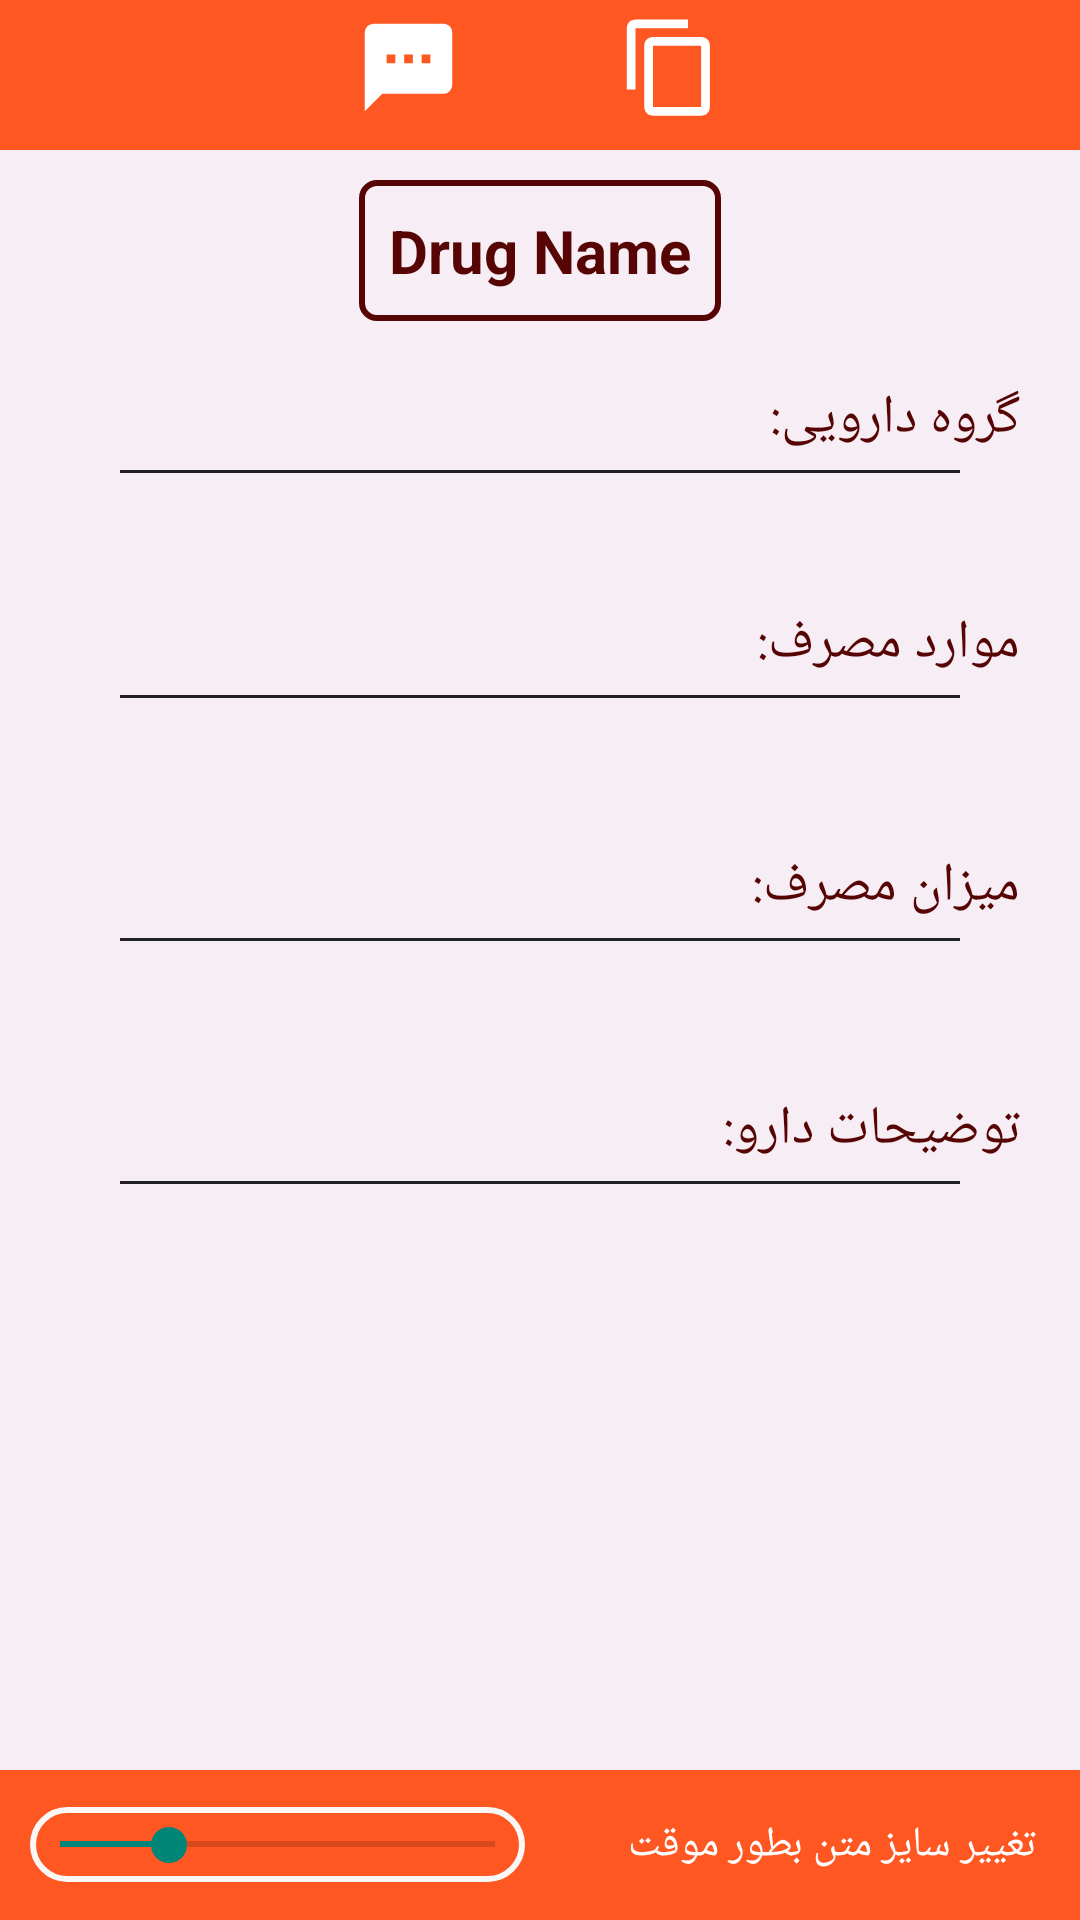

Point at icon controls on the screen. Image size 1080w x 1920h, points as (x,y).
message processing: (408,67)
